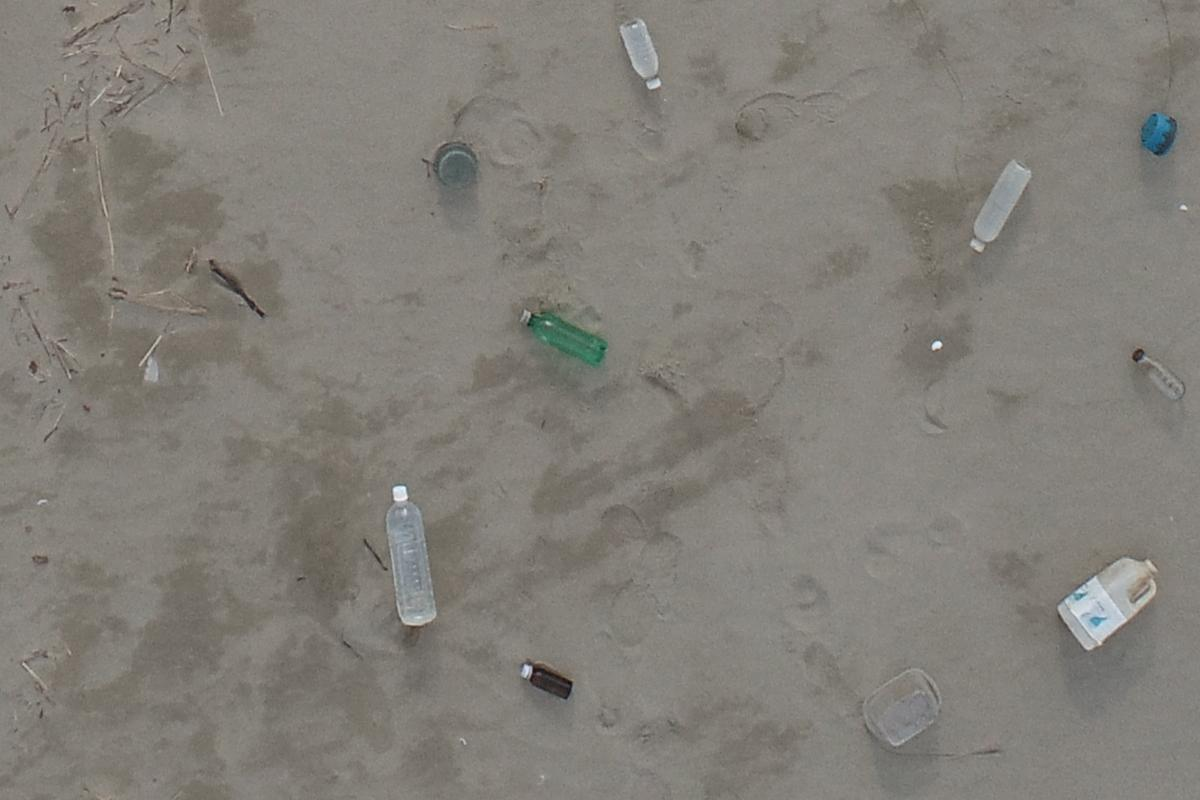(11)Glass: (1128, 348, 1186, 402), (515, 664, 576, 702)
(11)PET_Bottle: (387, 486, 439, 629), (966, 158, 1031, 252), (516, 310, 606, 365), (619, 16, 660, 91)
(11)Plastic_ETC: (1056, 556, 1164, 654), (862, 667, 943, 752)
